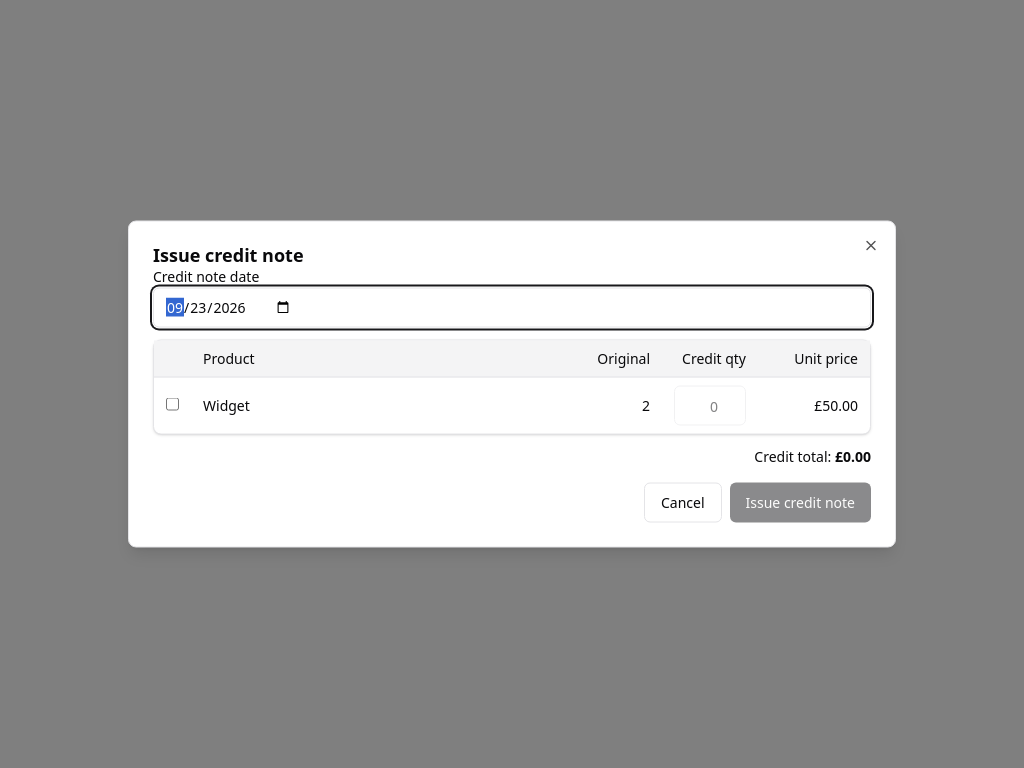
Test: CreditNoteDialog › enables issue button only after selecting a line
Expected: the button "Issue credit note" is disabled, [730,482,871,522]
Click the checkbox named "select line 1".
click(172, 404)  # box [166,398,179,410]
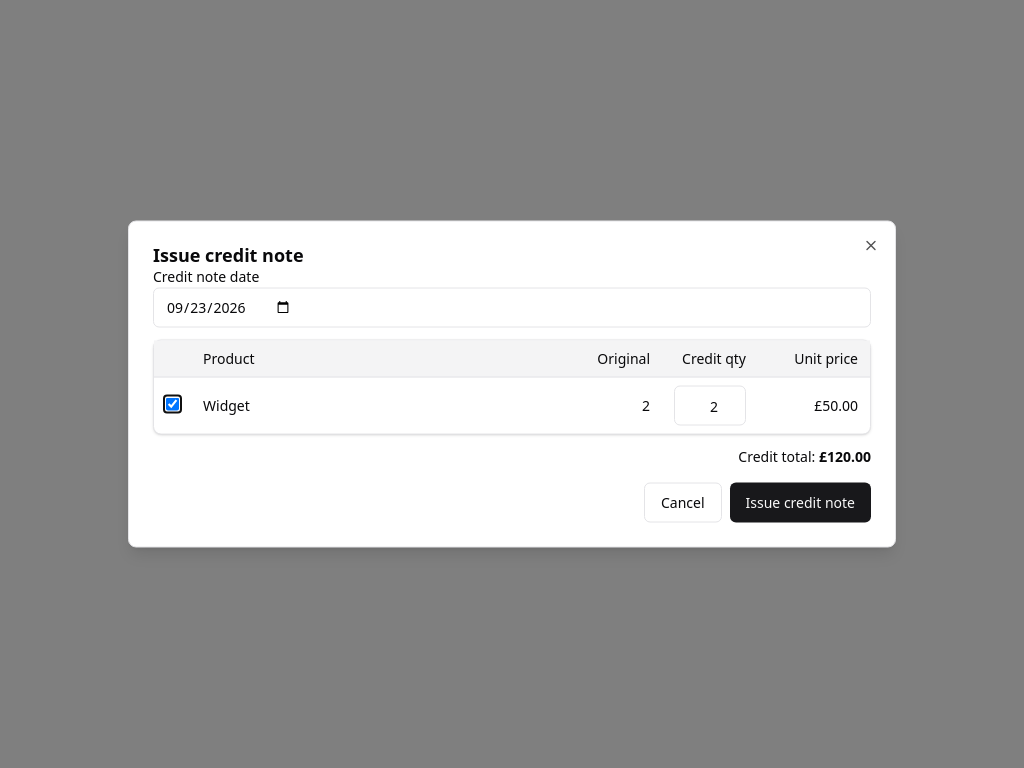
Expected: the button "Issue credit note" is enabled, [730,482,871,522]
